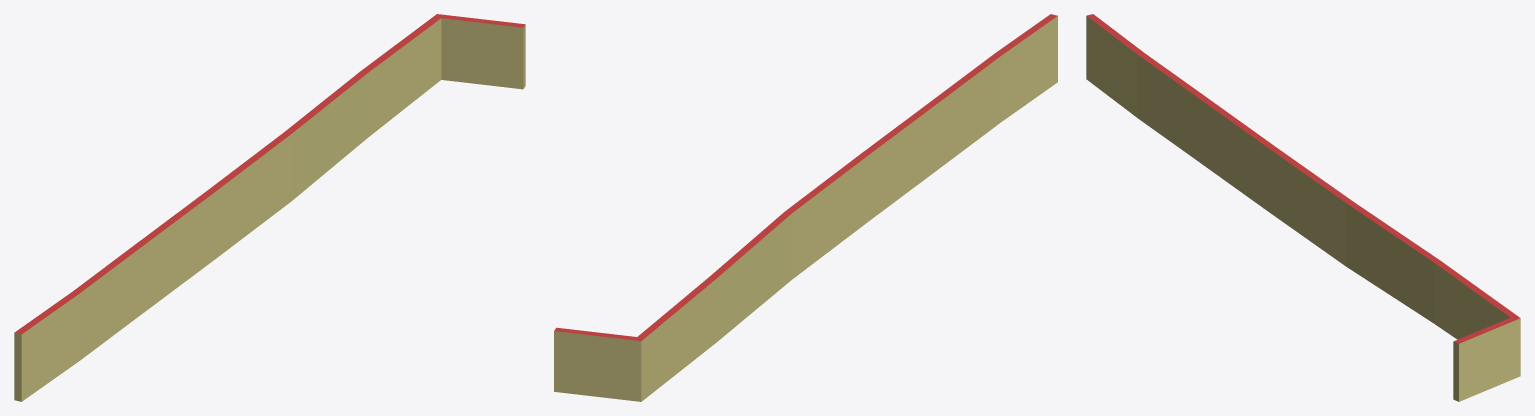
3 views of the same model, side by side, from view 1: azimuth 30°, elevation 25°; view 2: azimuth 210°, elevation 25°; view 3: azimuth 270°, elevation 25° (orthographic). The views are drawn at different scales.
Bounding box in the file's own units: 75.28 × 42.6 × 6.88.
